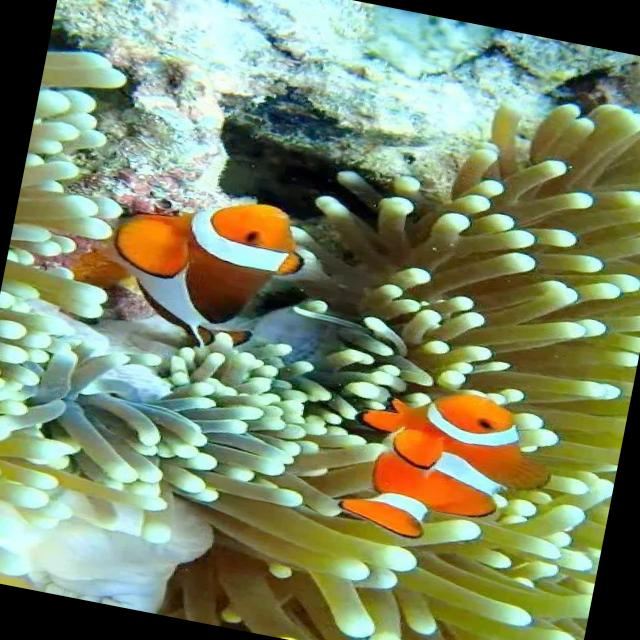ClownFish: (316, 368, 559, 562), (94, 180, 320, 373)
